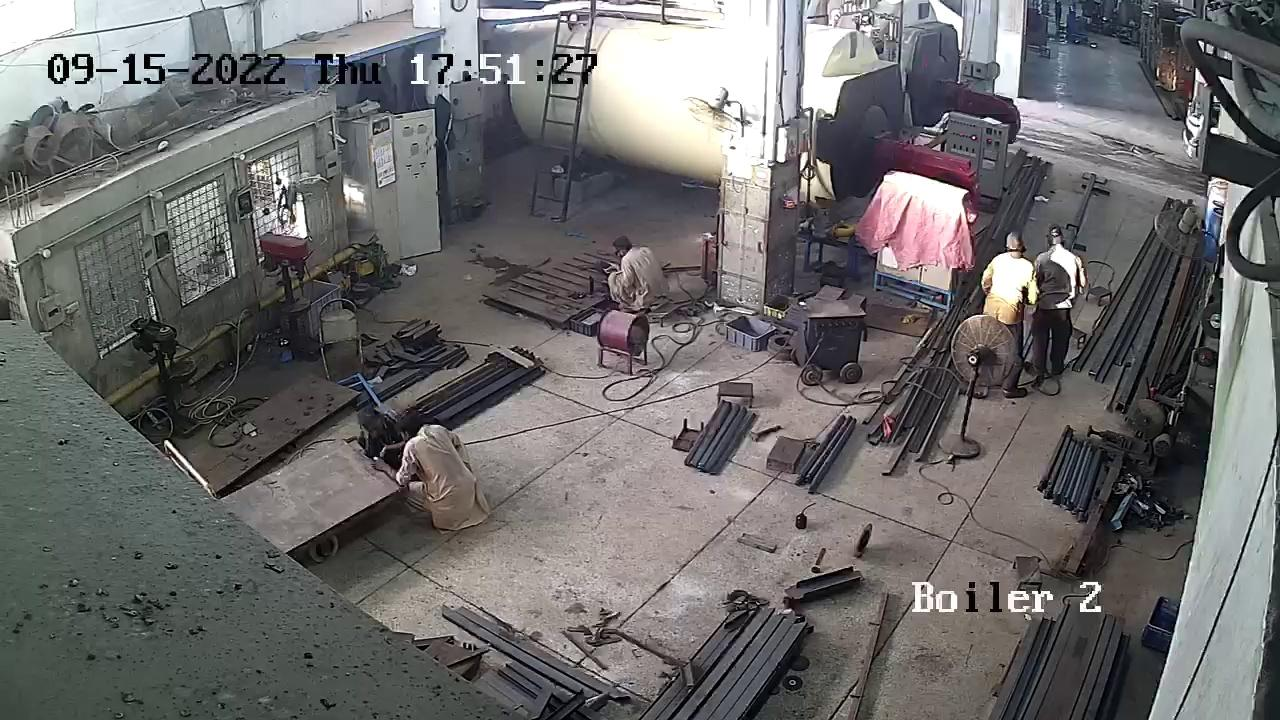person: (385, 409, 487, 532), (1029, 223, 1086, 383), (982, 224, 1029, 399), (605, 237, 670, 316)
